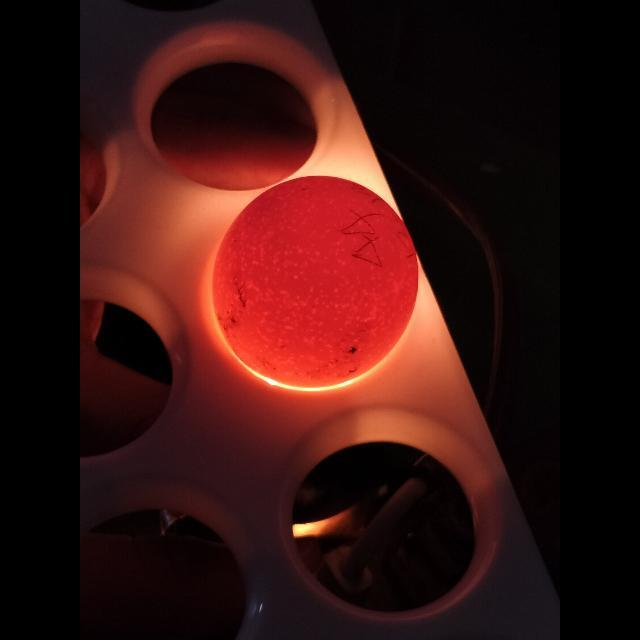Infertile: (209, 175, 423, 385)
